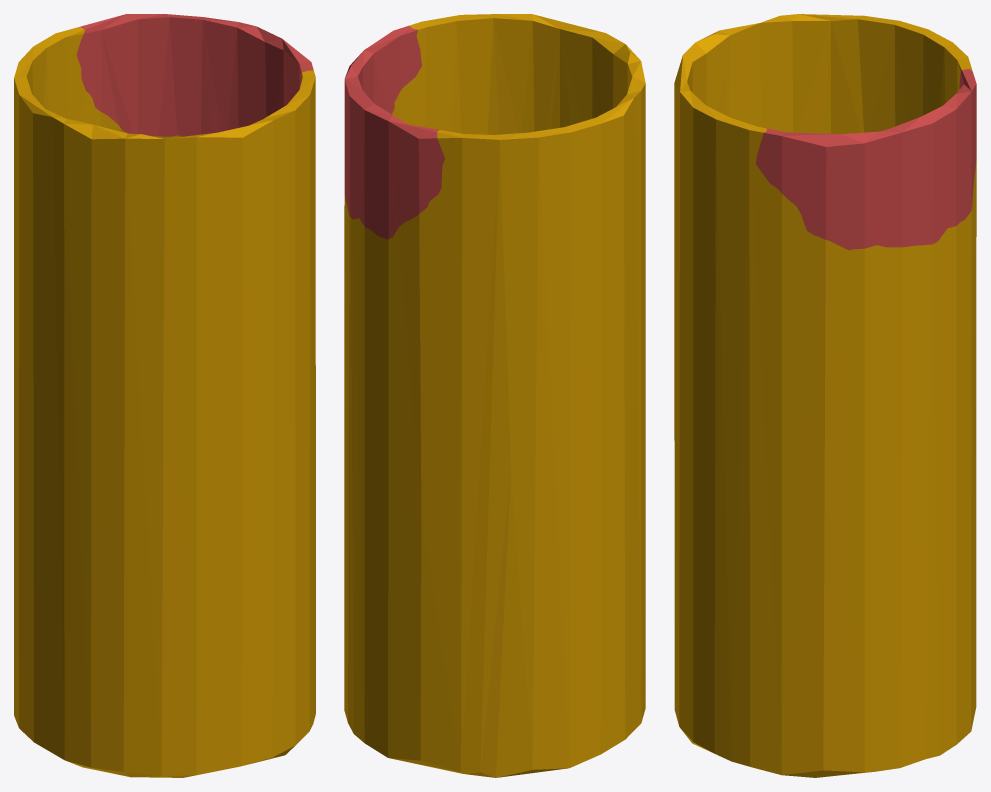
File: fractured_31_2pcs.glb
3 views of the same model, side by side, from view 1: azimuth 30°, elevation 25°; view 2: azimuth 150°, elevation 25°; view 3: azimuth 270°, elevation 25° (orthographic).
Parts seen in each view (by area): view 1: piece_0.obj, piece_1.obj; view 2: piece_0.obj, piece_1.obj; view 3: piece_0.obj, piece_1.obj.
Part boxes in pixels (x1,y1,x2,y2): piece_0.obj: (14,26,315,777); piece_1.obj: (76,14,313,136); piece_0.obj: (344,14,645,777); piece_1.obj: (344,25,444,239); piece_0.obj: (674,14,976,777); piece_1.obj: (756,69,976,250).
Size of the model in its own units: 0.424 by 1 by 0.4237.
